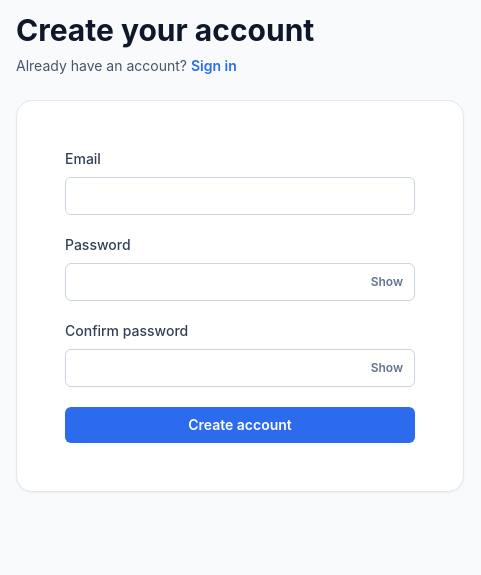
Test: RegisterPage › shows error for duplicate email
Type "existing@example.com" into the field labelled "Email".
click(240, 196); type("existing@example.com")  # box [65,177,415,215]
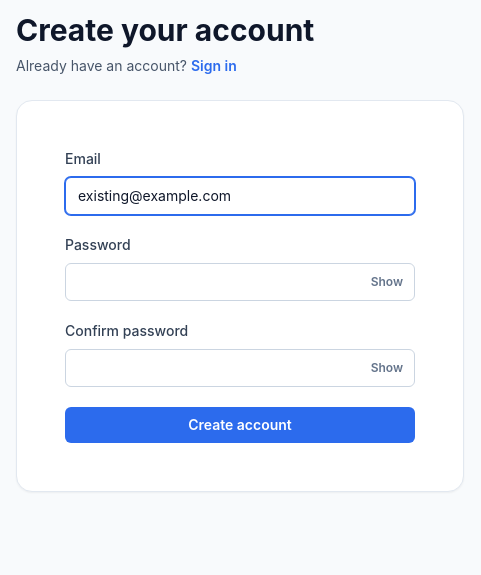
Type "password123" into the password field labelled "Password".
click(240, 282); type("password123")  # box [65,263,415,301]
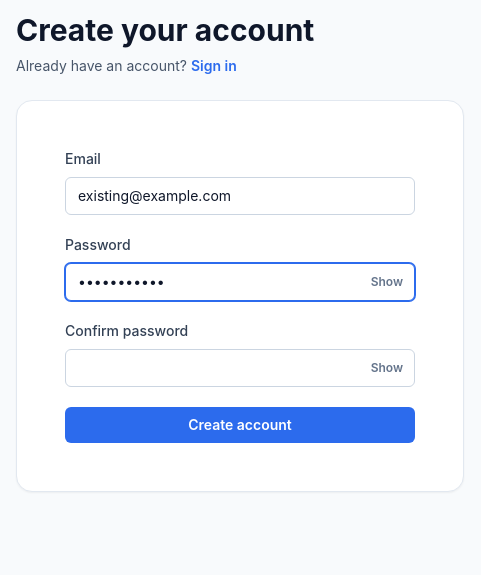
Type "password123" into the password field labelled "Confirm password".
click(240, 368); type("password123")  # box [65,349,415,387]
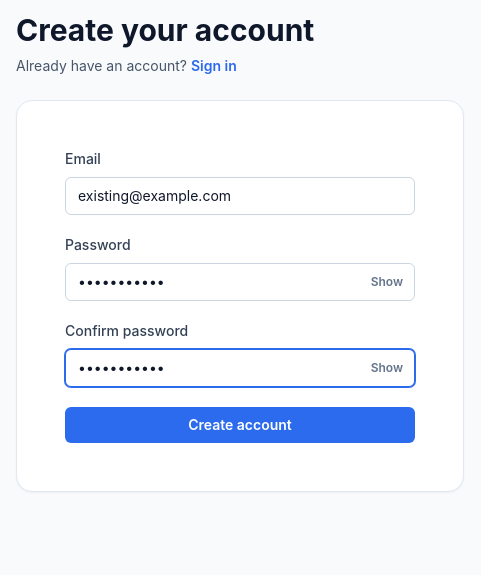
Click the button "Create account".
click(240, 425)  # box [65,407,415,443]
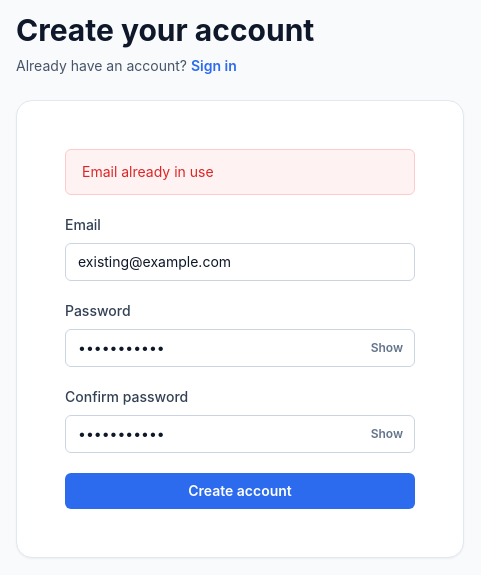
Expected: the text "Email already in use" is shown, [65,149,415,195]
